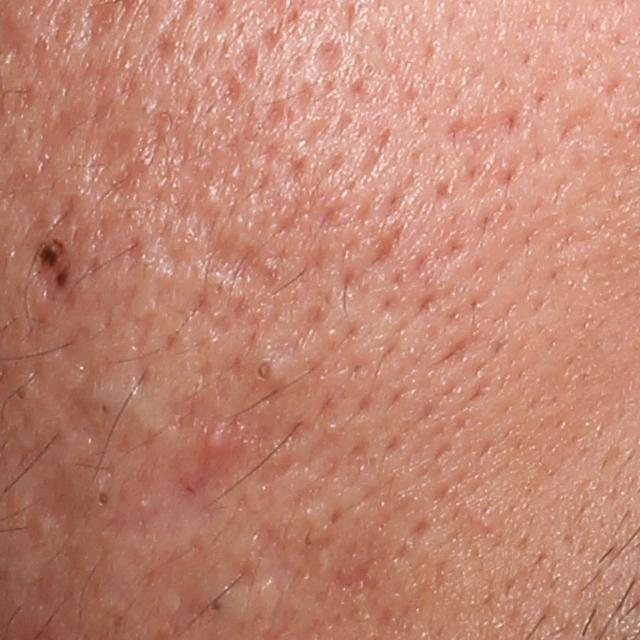atrophic_scar: (22, 324, 122, 450), (193, 235, 287, 324), (103, 107, 170, 205), (19, 451, 79, 550), (152, 287, 234, 340), (82, 128, 141, 182), (126, 311, 161, 400), (139, 20, 176, 94), (147, 228, 199, 278), (35, 106, 82, 151), (305, 39, 347, 79)
comedo: (188, 571, 246, 633), (244, 342, 296, 395), (93, 485, 113, 511)
nevus: (30, 237, 76, 308)
papule: (202, 415, 242, 470)
